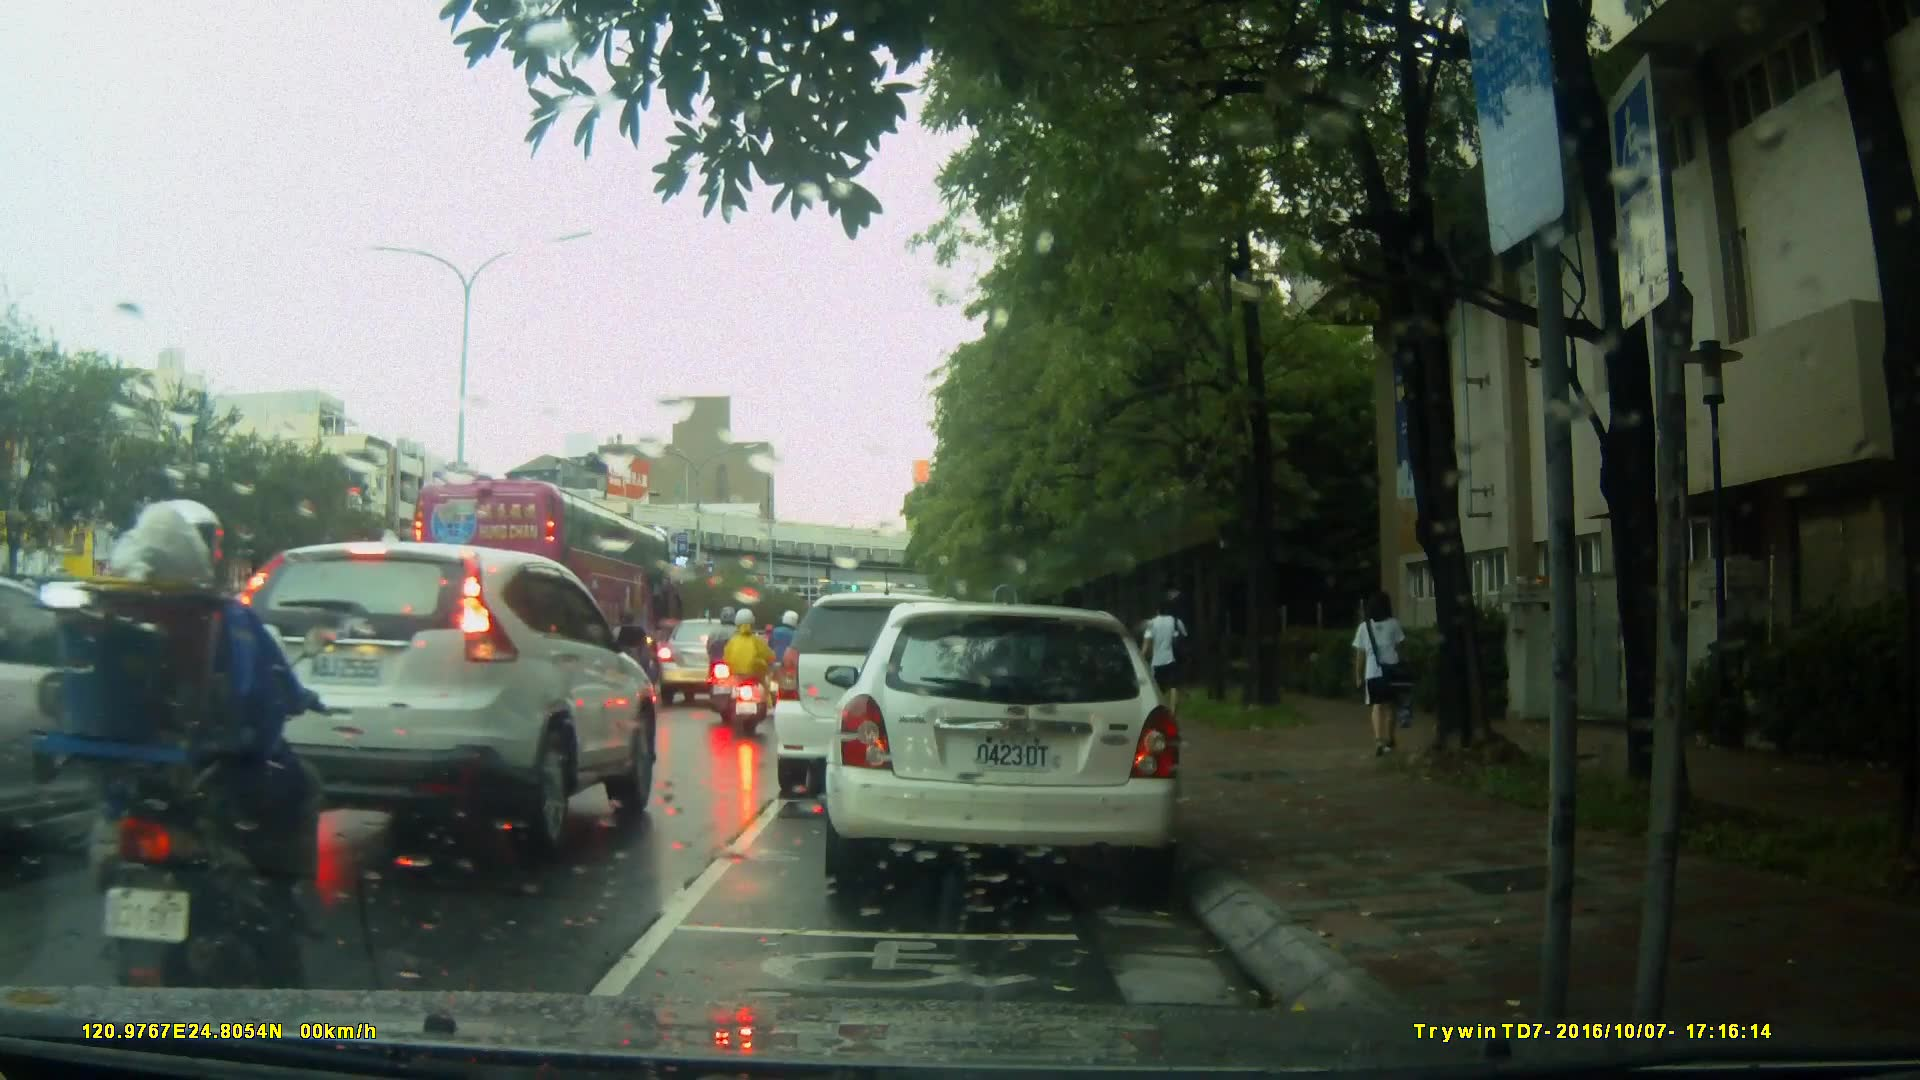pedestrian: (1339, 582, 1421, 773), (1141, 591, 1189, 721)
rider: (34, 499, 328, 1014), (721, 607, 771, 739), (701, 600, 752, 719), (768, 605, 809, 709)
vehicle: (221, 541, 664, 860), (835, 594, 1194, 898), (403, 478, 688, 676), (776, 590, 1026, 784), (653, 616, 764, 704)
